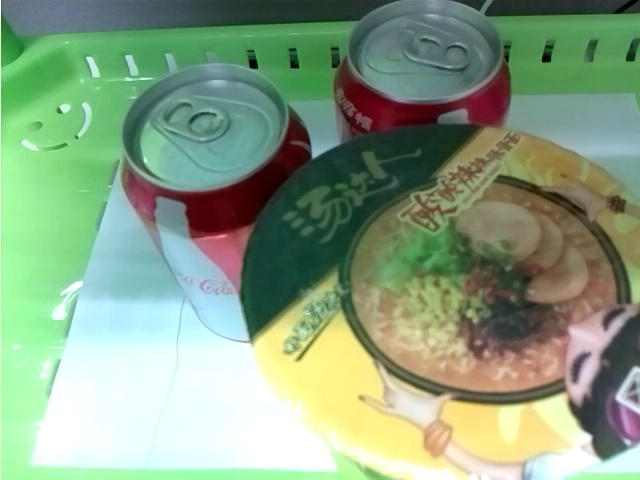cocacola: (114, 58, 312, 346), (331, 3, 513, 128)
noodles: (241, 128, 640, 480)
